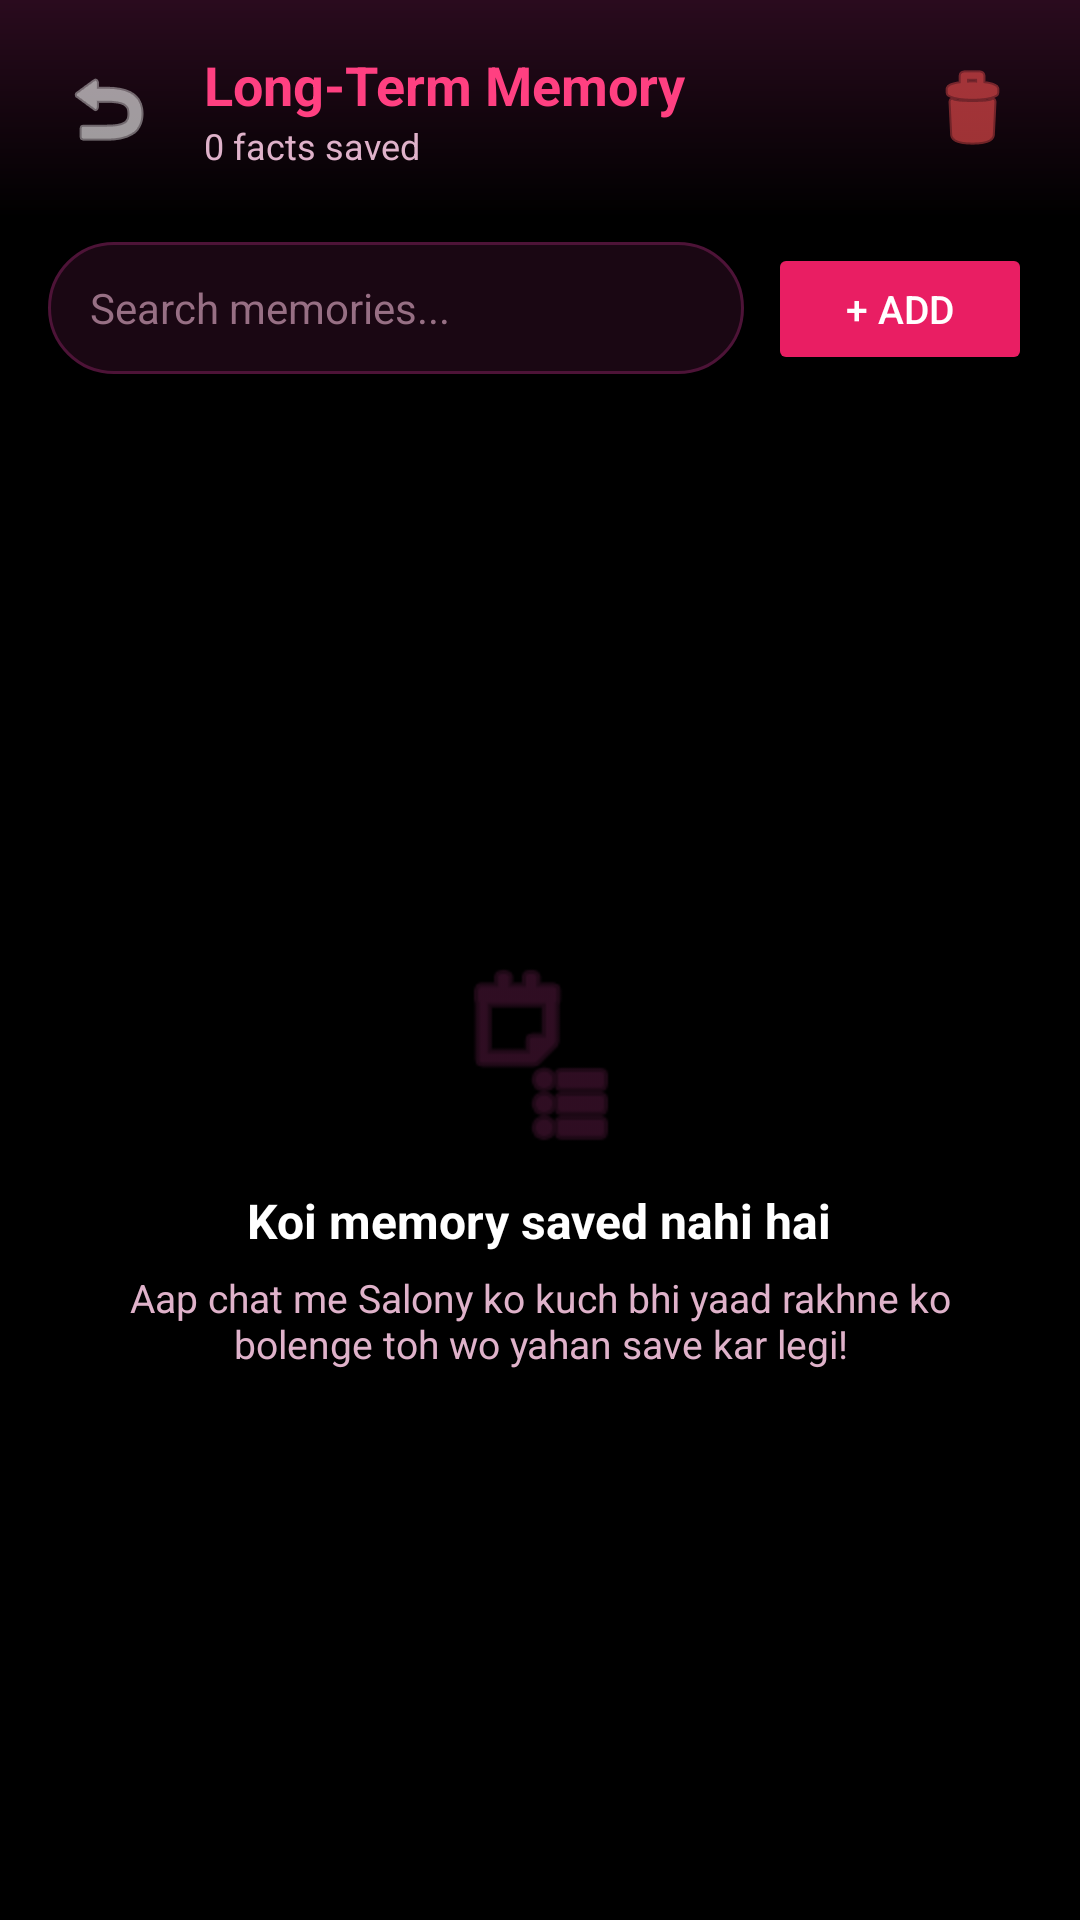

Icons on this 1080w x 1920h Android screen, each with its box as {"left": x1, "top": y1, "right": x2, "bottom": y2}:
Back: {"left": 75, "top": 78, "right": 144, "bottom": 141}
Clear All Memories: {"left": 946, "top": 70, "right": 999, "bottom": 145}
No Memories: {"left": 475, "top": 971, "right": 607, "bottom": 1139}
